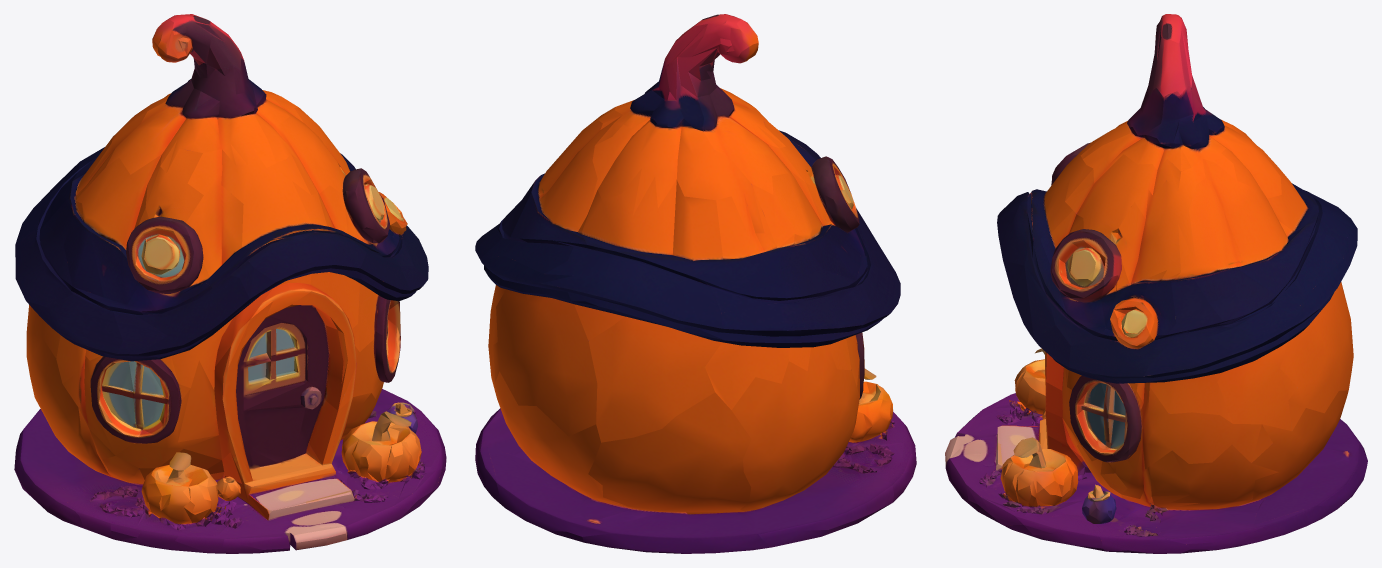
Rendered from hw-house.glb.
3 renders of one model, left to right at view 1: azimuth 30°, elevation 25°; view 2: azimuth 150°, elevation 25°; view 3: azimuth 270°, elevation 25°, orthographic. The views are drawn at different scales.
Bounding box in the file's own units: 1.66 × 1.9 × 1.69.
Materials: 1 (1 with a texture image).
